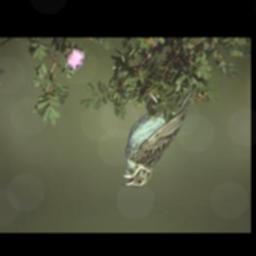Sparrow: (121, 79, 197, 194)
